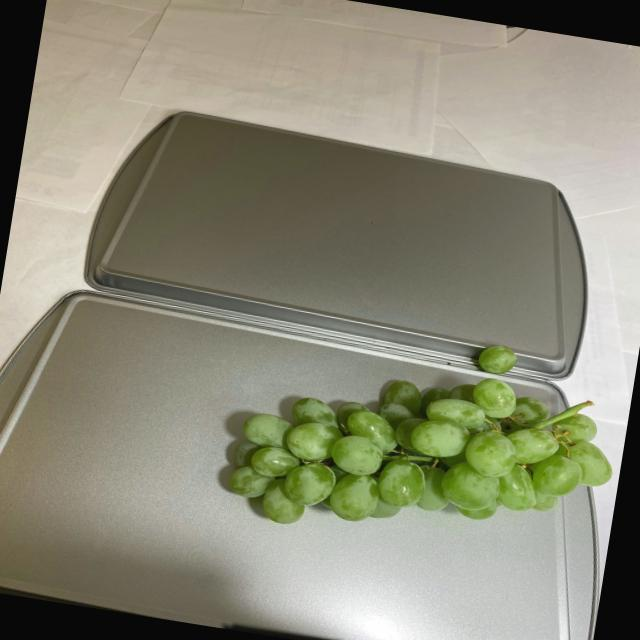grapes: (212, 302, 618, 564)
